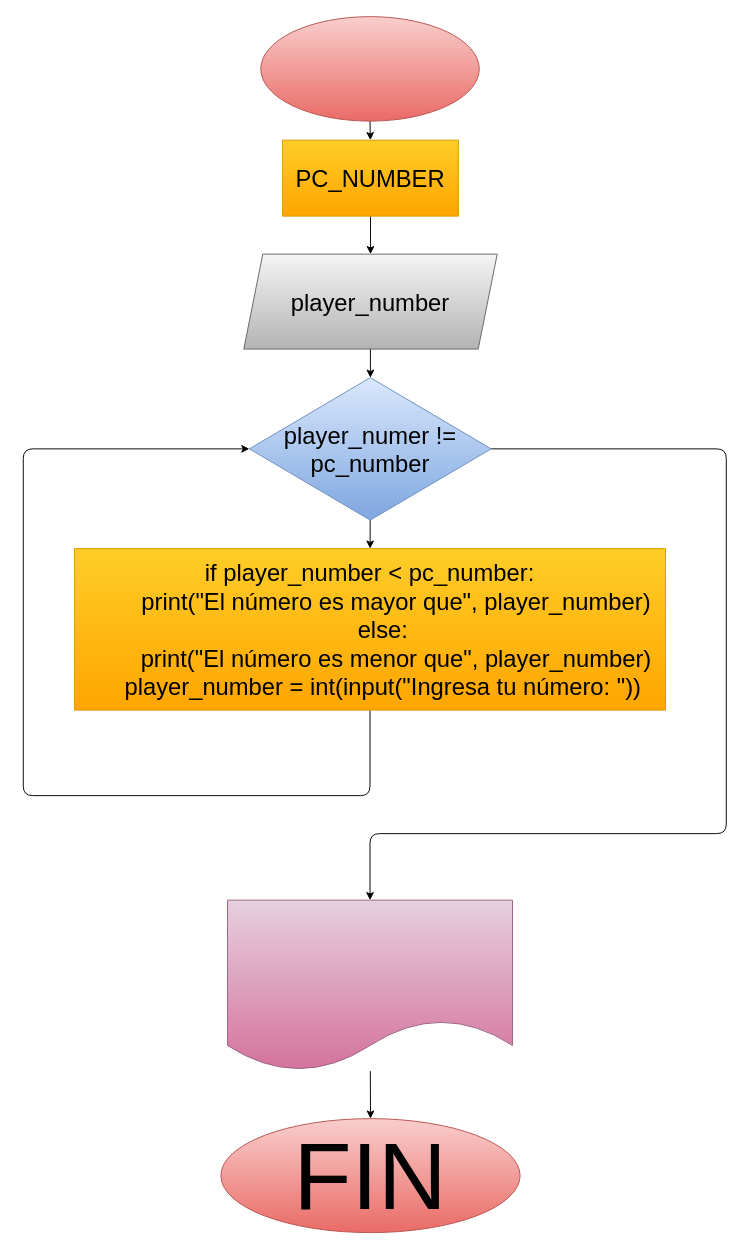
Image size: 751x1249. Some labels were removed from this diagram. The shapes that lost their labels are listed below. From the top down, each one's centre as x and y in pixels, then its label:
point 369,68: INICIO
point 370,985: "Felicidades! encontraste el número!!! ^w^"
